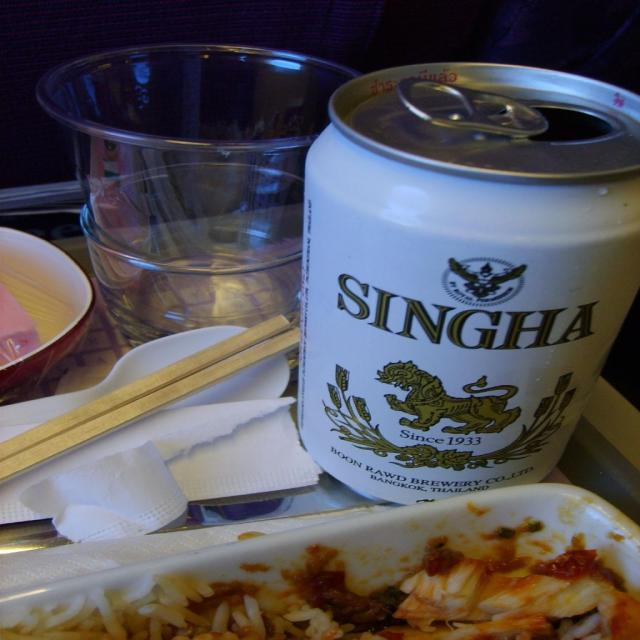singha: (317, 269, 605, 475)
